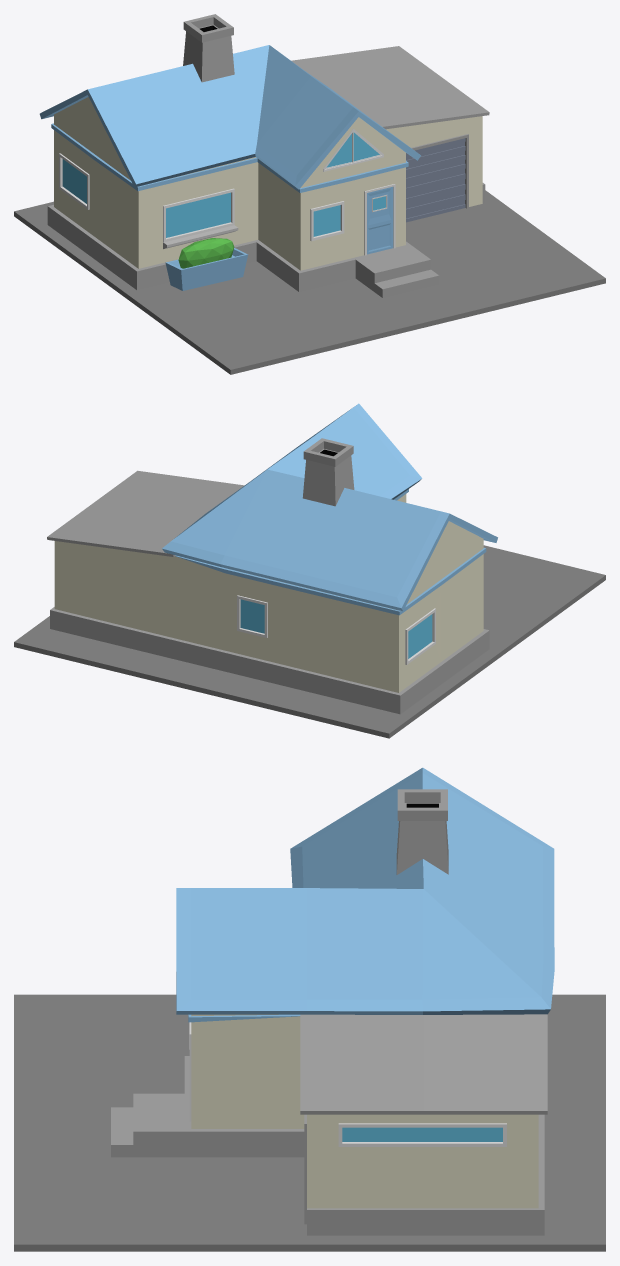
The model's file is BlueSuburbanHouse (1).fbx.
The picture shows the model from 3 angles, top to bottom: view 1: azimuth 30°, elevation 25°; view 2: azimuth 150°, elevation 25°; view 3: azimuth 270°, elevation 25°; orthographic projection. The views are drawn at different scales.
Parts seen in each view (by area): view 1: BlueHouse; view 2: BlueHouse; view 3: BlueHouse.
Boxes of the visible parts, <box> form: BlueHouse: <box>14,14,605,374</box>; BlueHouse: <box>14,403,605,738</box>; BlueHouse: <box>14,767,605,1251</box>.
Size of the model in its own units: 700 by 374 by 700.
